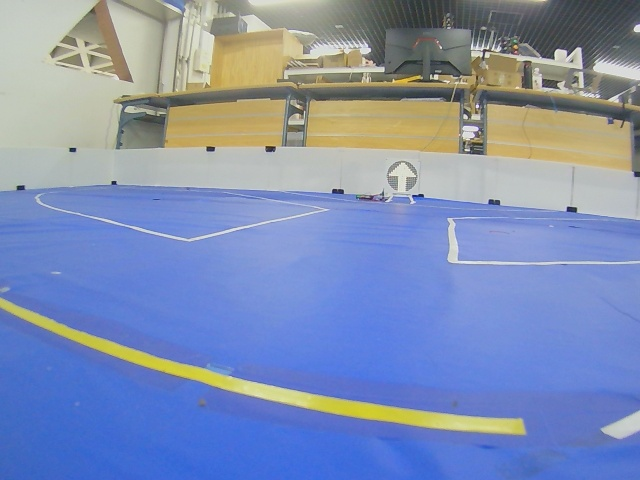straight_yellow: (388, 159, 417, 193)
